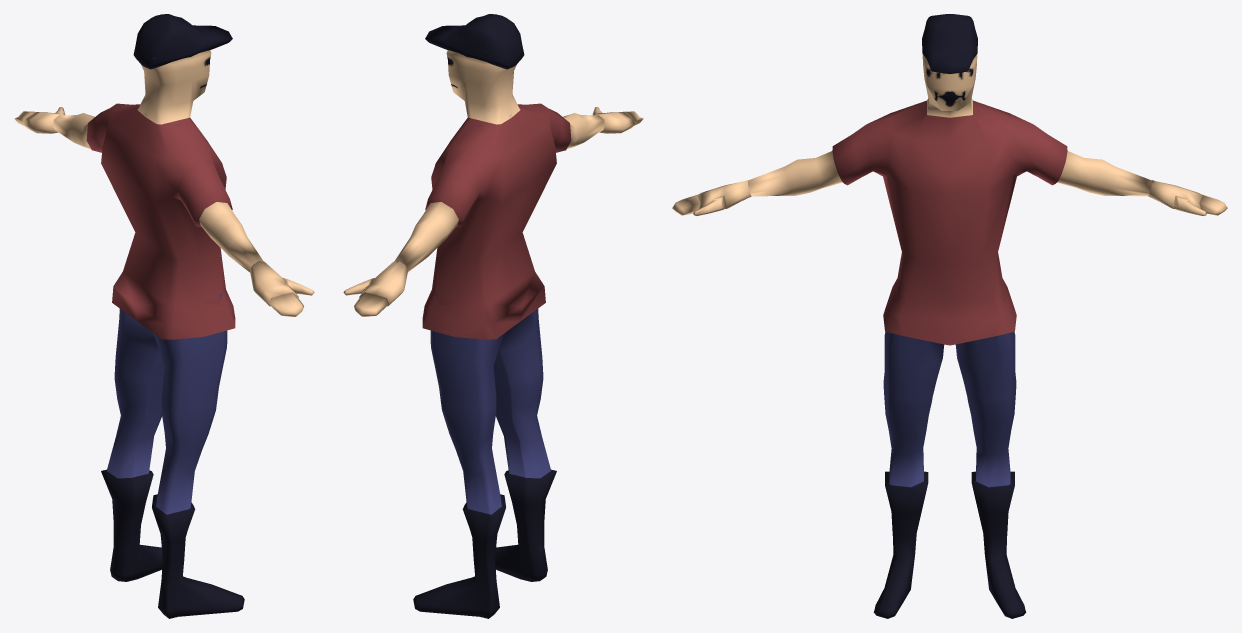
Rendered from jugador.fbx.
3 views of the same model, side by side, from view 1: azimuth 30°, elevation 25°; view 2: azimuth 150°, elevation 25°; view 3: azimuth 270°, elevation 25° (orthographic).
Parts seen in each view (by area): view 1: Cube; view 2: Cube; view 3: Cube.
Part boxes in pixels (bbox=[...]): Cube: bbox=[14, 14, 314, 618]; Cube: bbox=[343, 14, 643, 618]; Cube: bbox=[672, 14, 1227, 618].
Size of the model in its own units: 123 by 669 by 579.
Materials: 1 (1 with a texture image).
